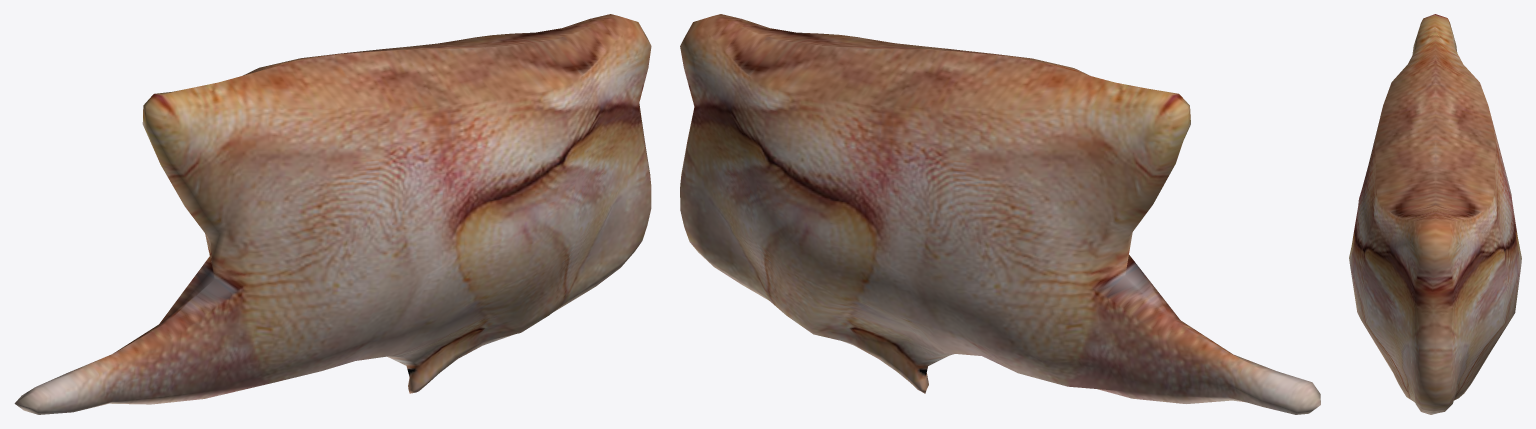
The model's file is giblets_6.fbx.
3 renders of one model, left to right at view 1: azimuth 30°, elevation 25°; view 2: azimuth 150°, elevation 25°; view 3: azimuth 270°, elevation 25°, orthographic. The views are drawn at different scales.
Parts seen in each view (by area): view 1: giblets_06; view 2: giblets_06; view 3: giblets_06.
Part boxes in pixels (x1,y1,x2,y2): giblets_06: [14, 14, 651, 414]; giblets_06: [680, 14, 1320, 414]; giblets_06: [1349, 14, 1521, 414].
Size of the model in its own units: 34.64 by 18.68 by 10.18.
